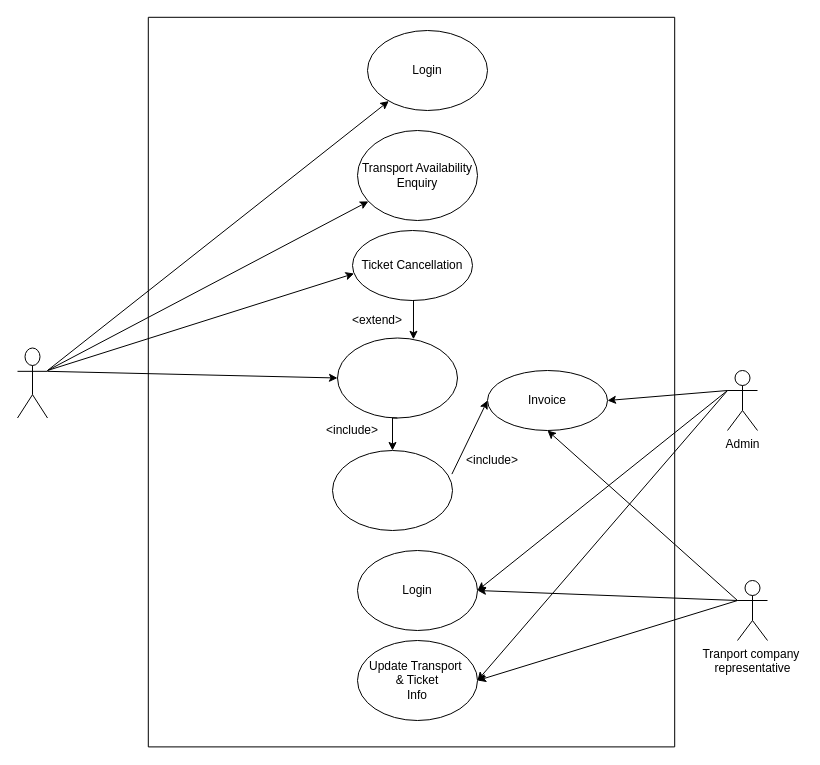
Image size: 820x765. Some labels were removed from this diagram. The centre of each missing label's shape, as x and y in pixels:
Payment: (x=392, y=490)
Ticket Booking: (x=397, y=377)
user: (x=32, y=382)
